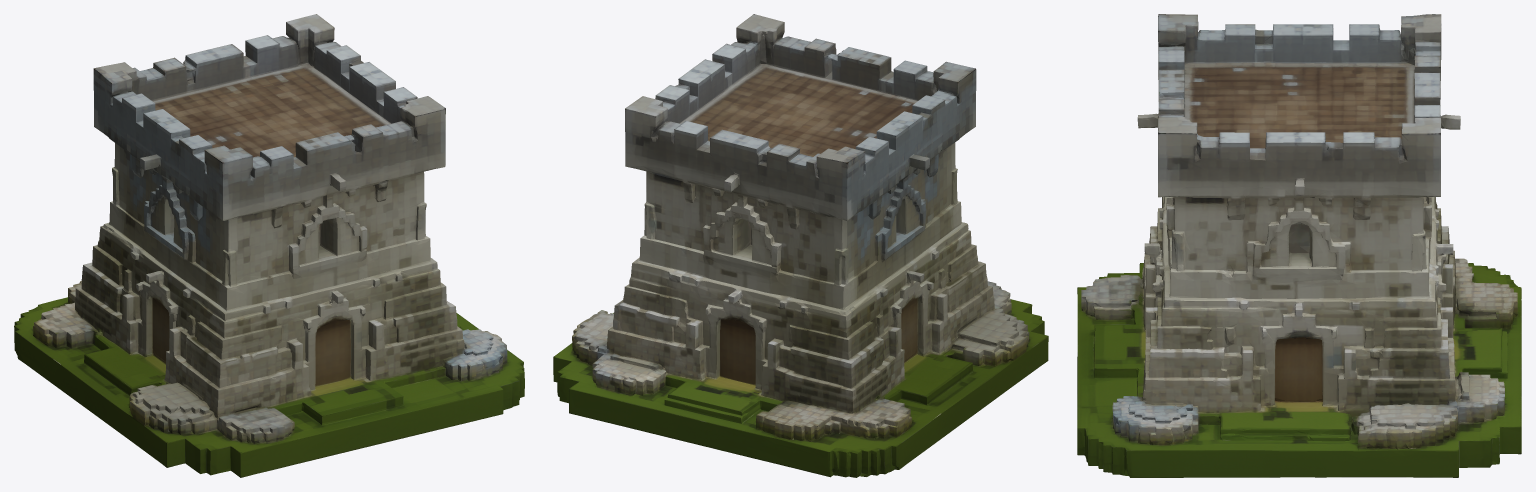
File: Voxel Medieval Stone Tower.glb
3 views of the same model, side by side, from view 1: azimuth 30°, elevation 25°; view 2: azimuth 150°, elevation 25°; view 3: azimuth 270°, elevation 25° (orthographic). The views are drawn at different scales.
Visible parts, largest first — view 1: world; view 2: world; view 3: world.
Part boxes in pixels (x1,y1,x2,y2): world: [14, 14, 524, 477]; world: [553, 14, 1048, 477]; world: [1077, 14, 1521, 477].
Size of the model in its own units: 0.9984 by 0.7714 by 0.9987.
Materials: 1 (1 with a texture image).
